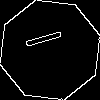I: (25, 25, 72, 51)
